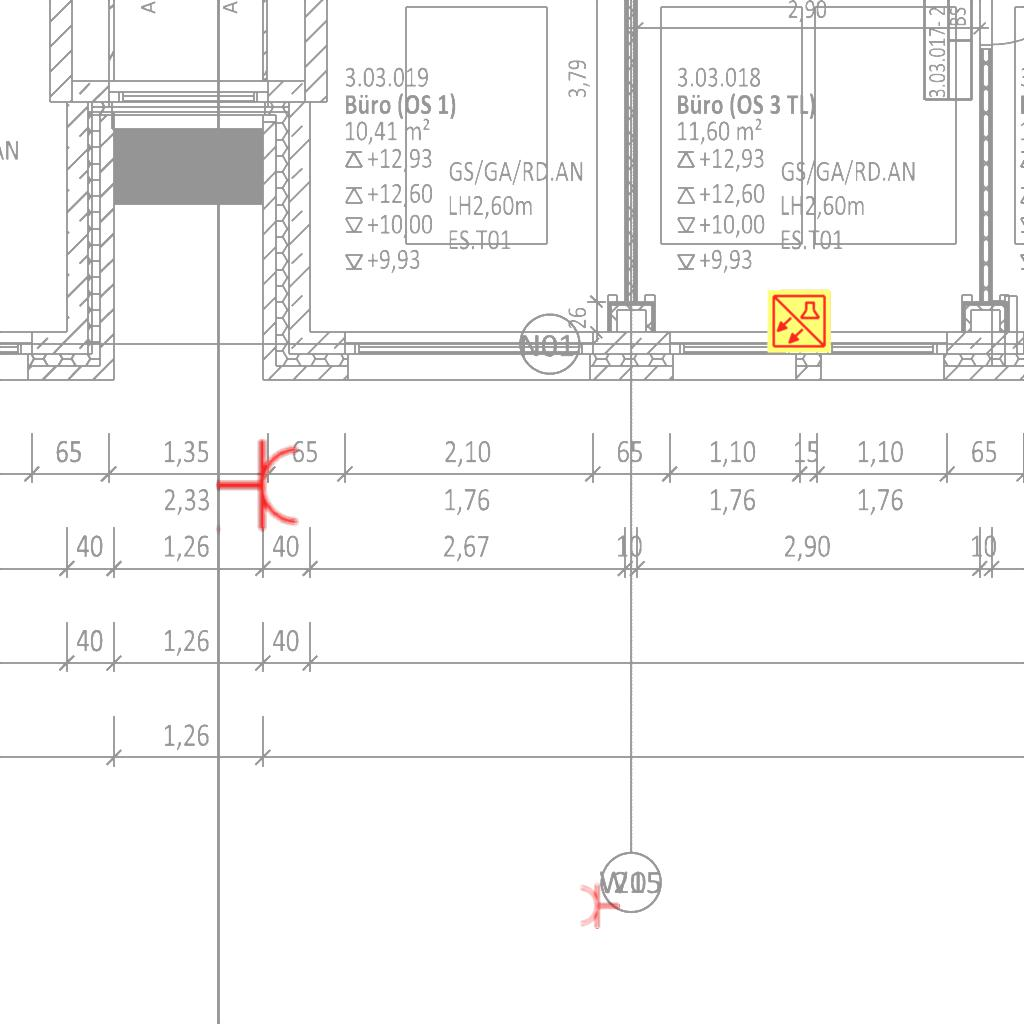OKW_Multisensormelder_(Kombination_optischer_Rauch-Kahlenmonoxid_Waerme-Melder): (766, 288, 832, 354)
Schukosteckdose_einfach: (214, 437, 301, 537), (578, 880, 621, 930)
